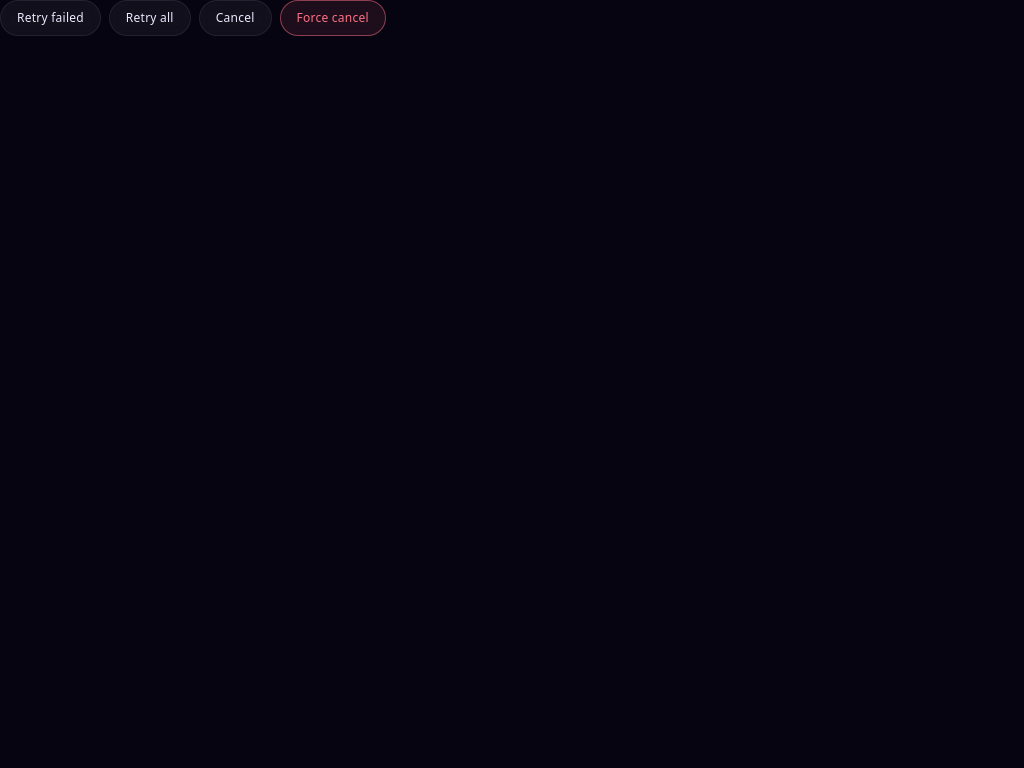
Test: the retry confirm copy names what each mode re-runs
Click the button "Retry failed".
click(50, 18)  # box [0,0,101,36]
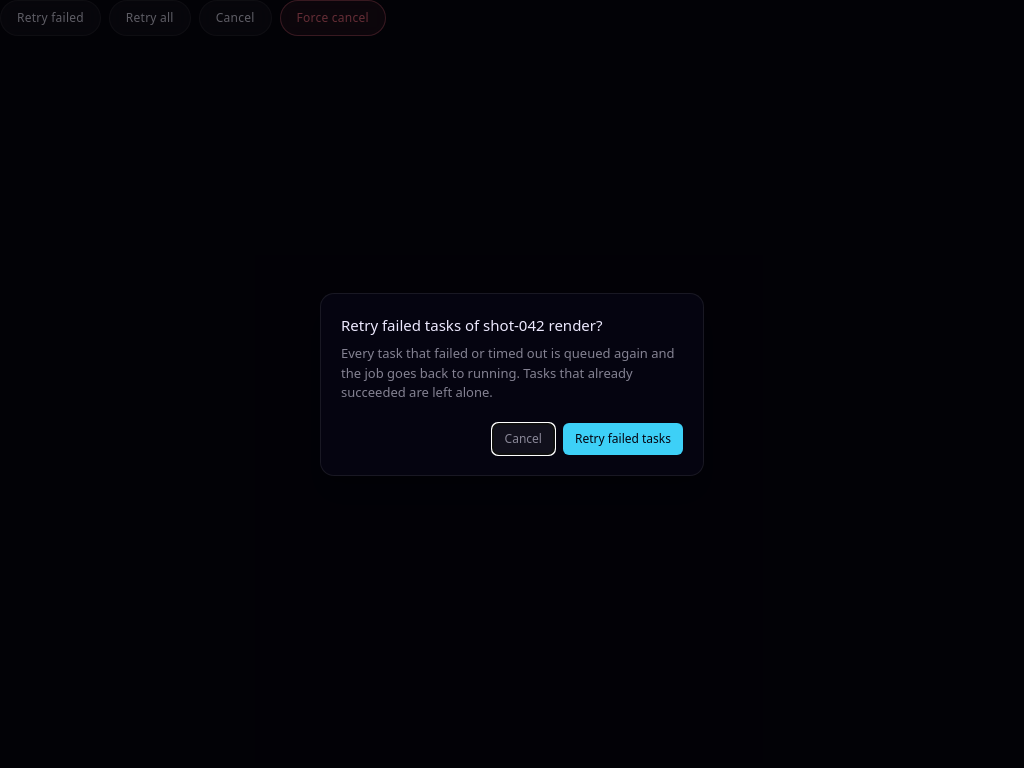
Expected: the text "timed out" is shown, [341,344,675,401]
